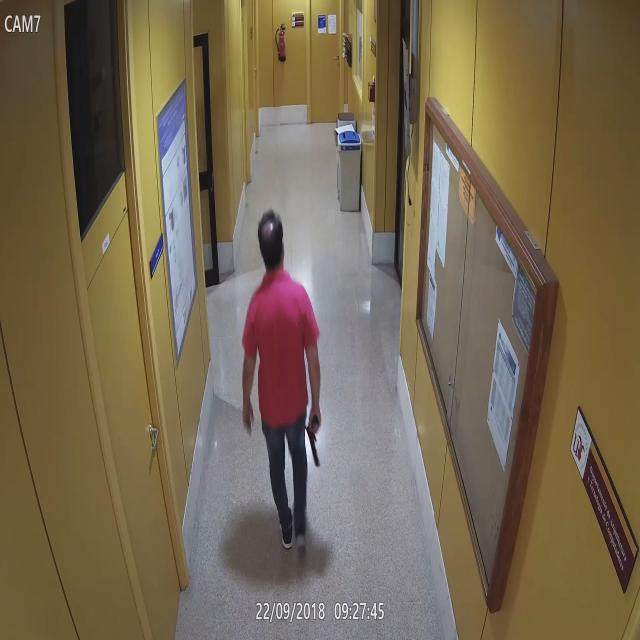pistol: (302, 411, 321, 465)
